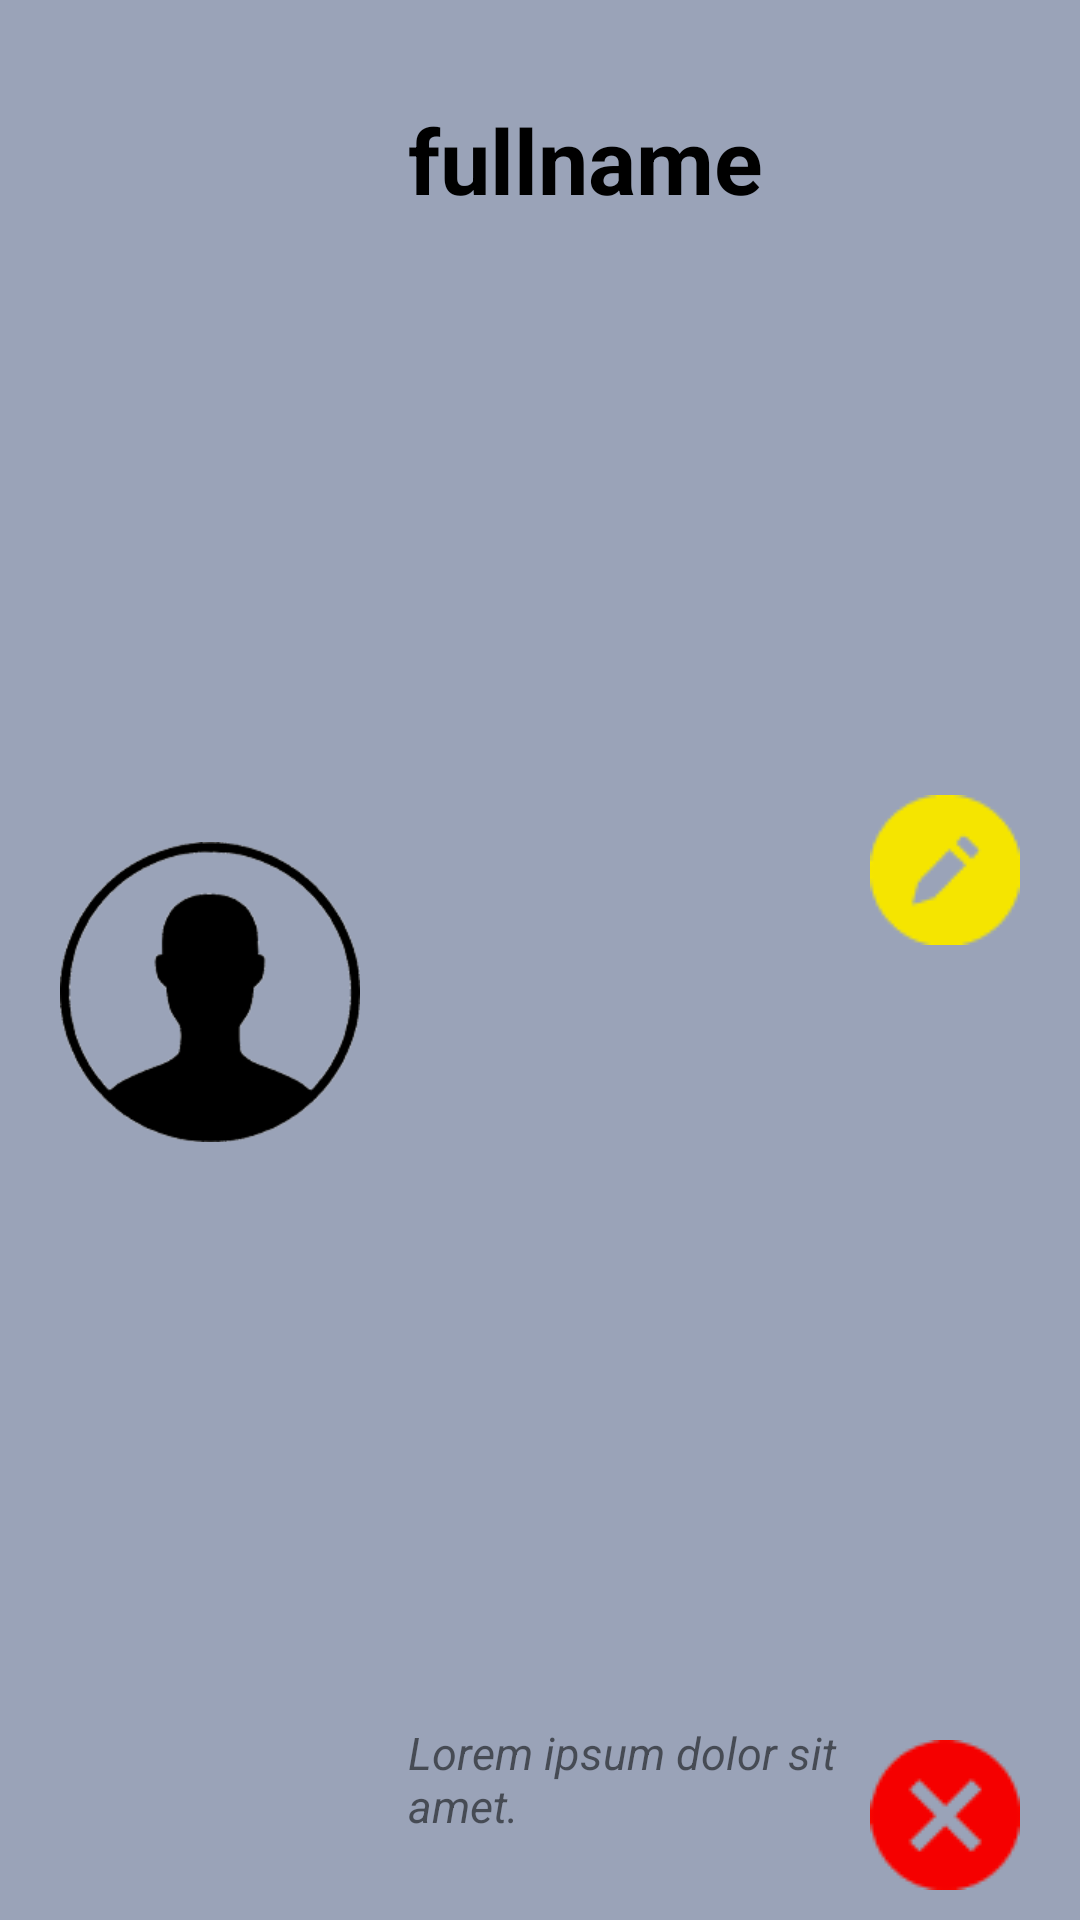

Named icons in this screenshot (1080w x 1920h) and their centers, (x,y):
delete: (945,1815)
edit: (945,870)
user: (210,992)
